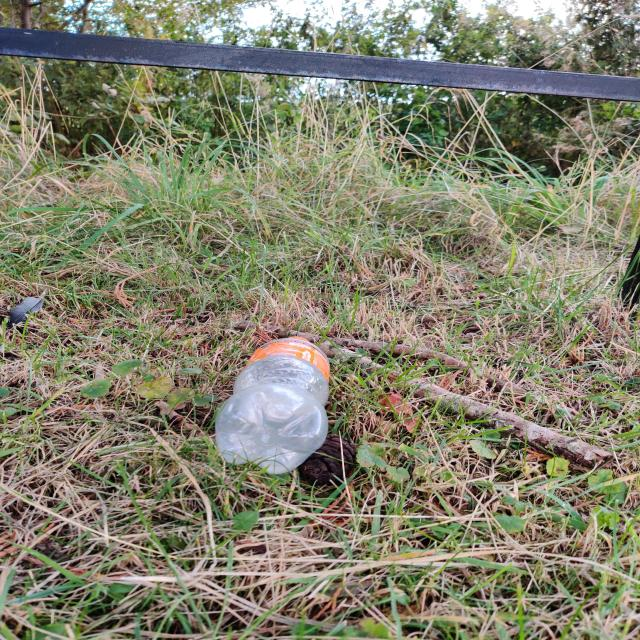litter: (185, 310, 371, 499)
